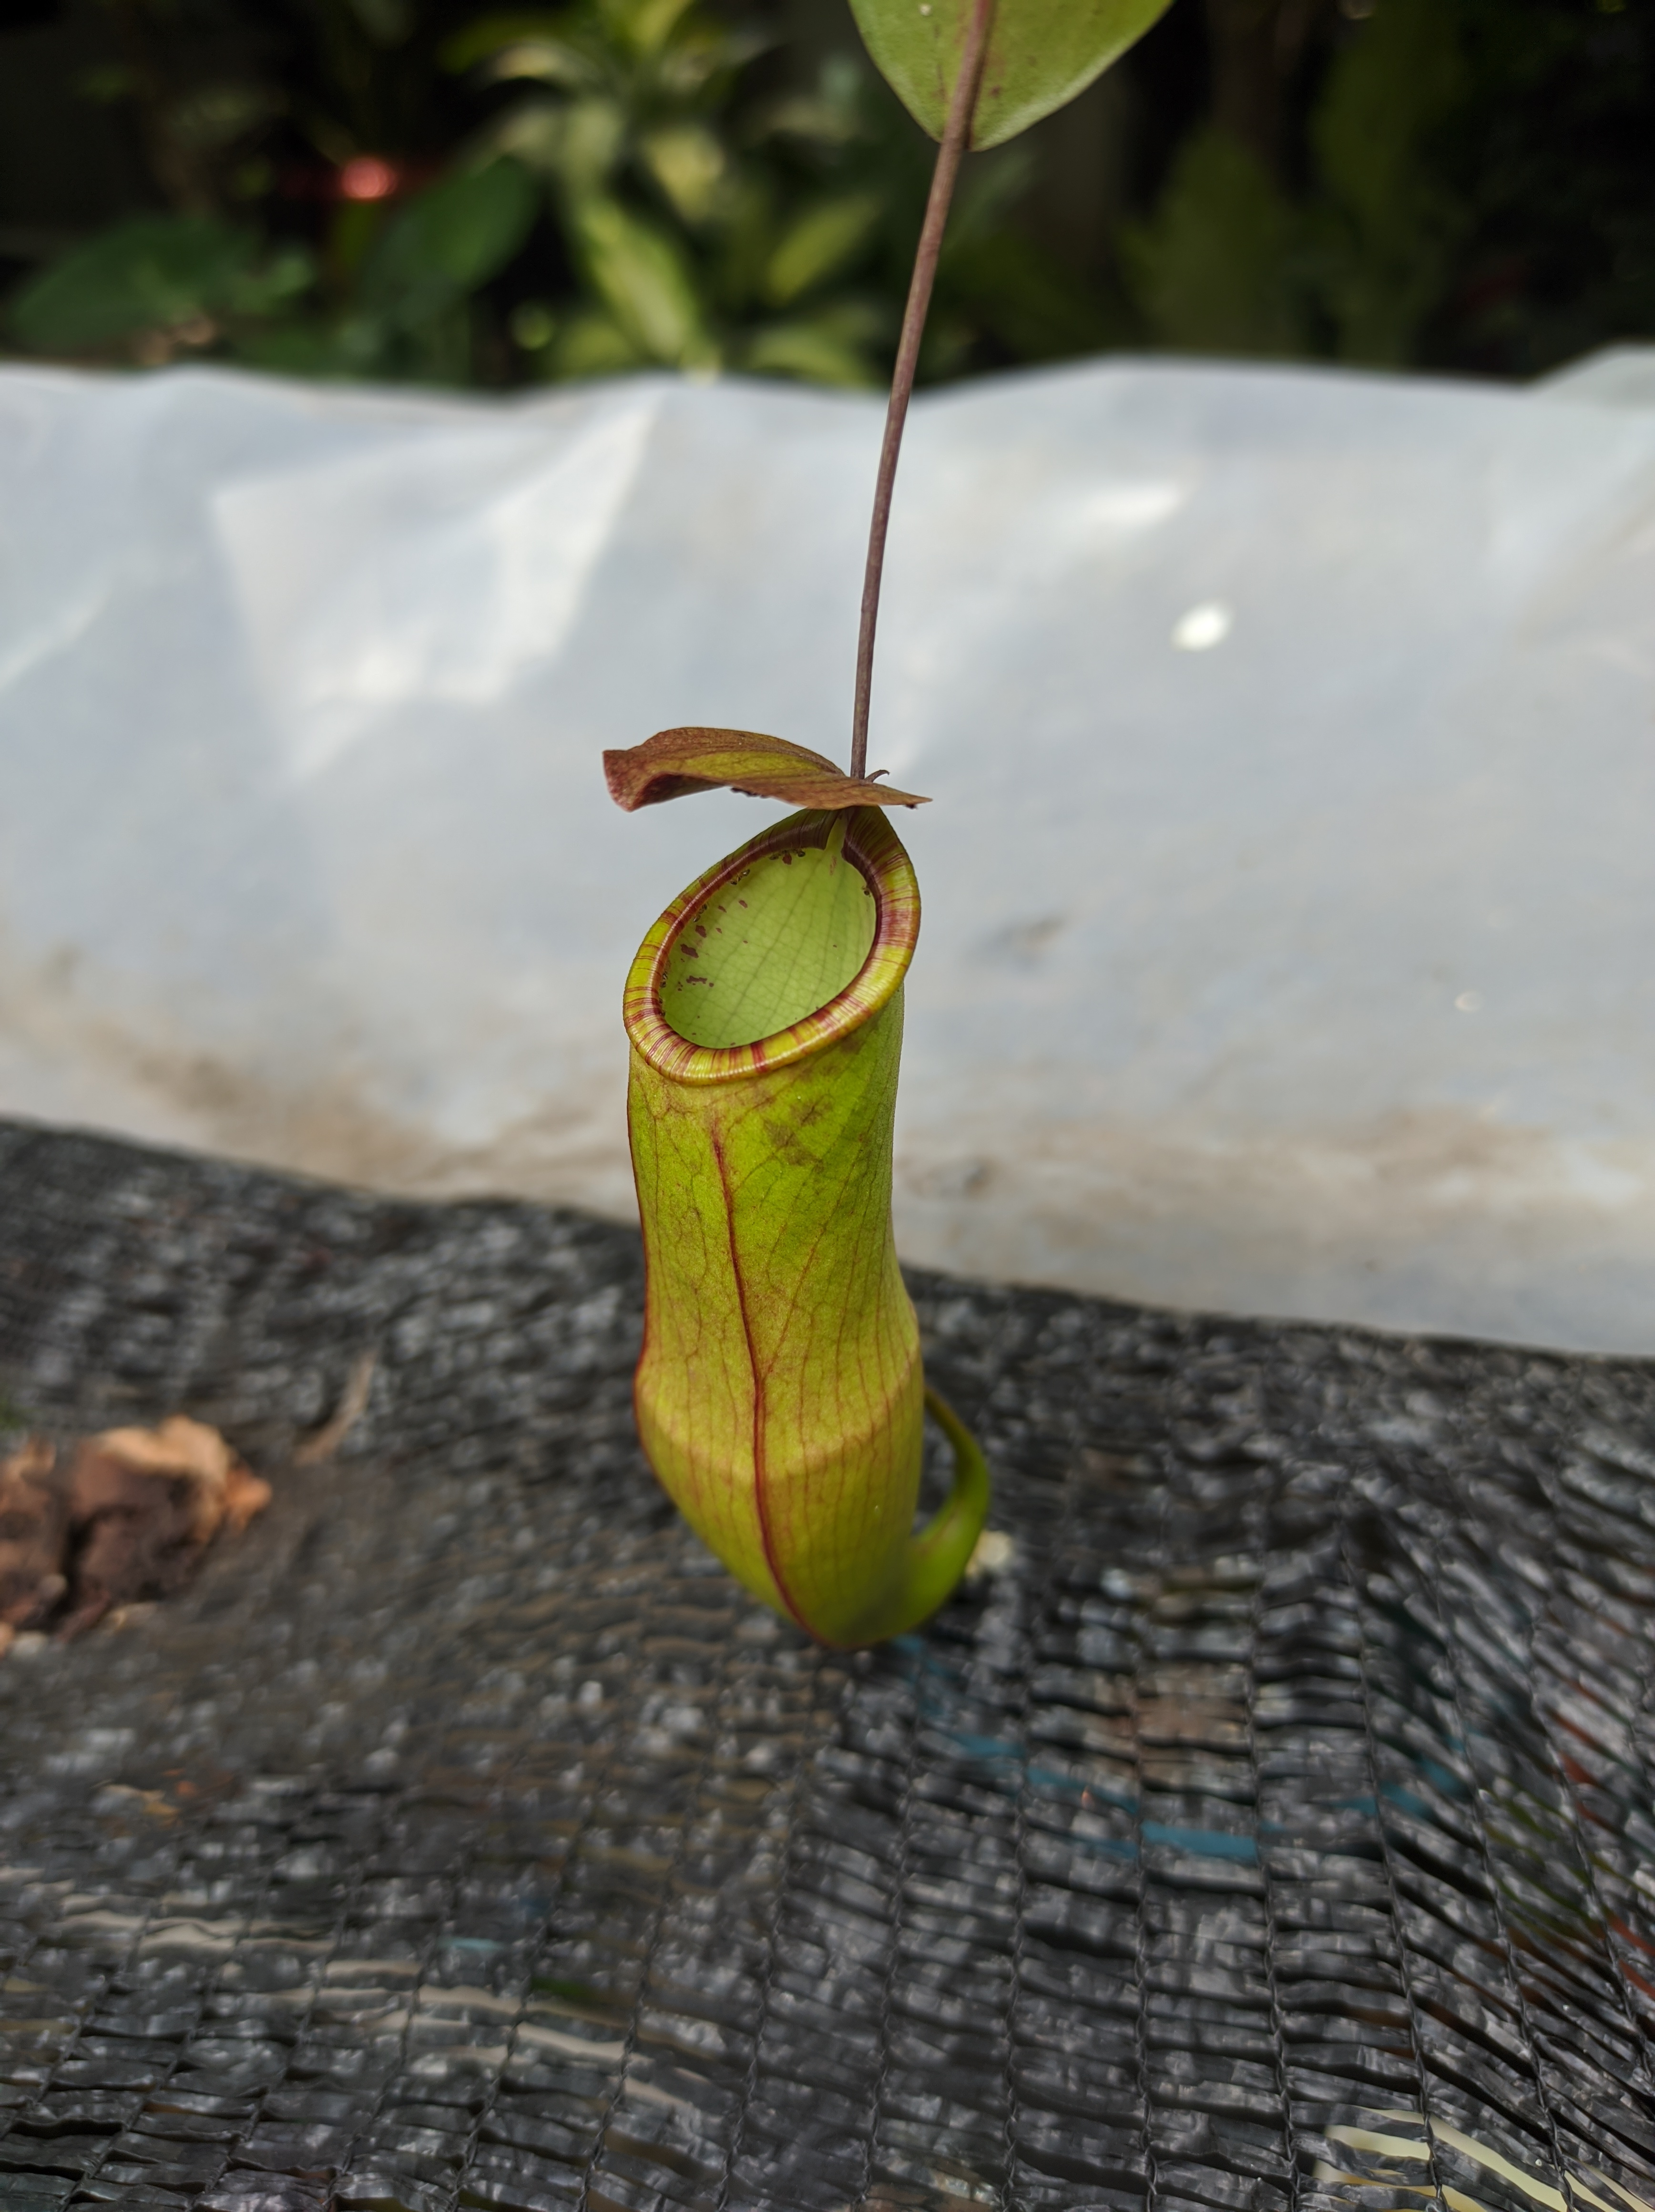Eustachya: (530, 680, 1045, 1725)
